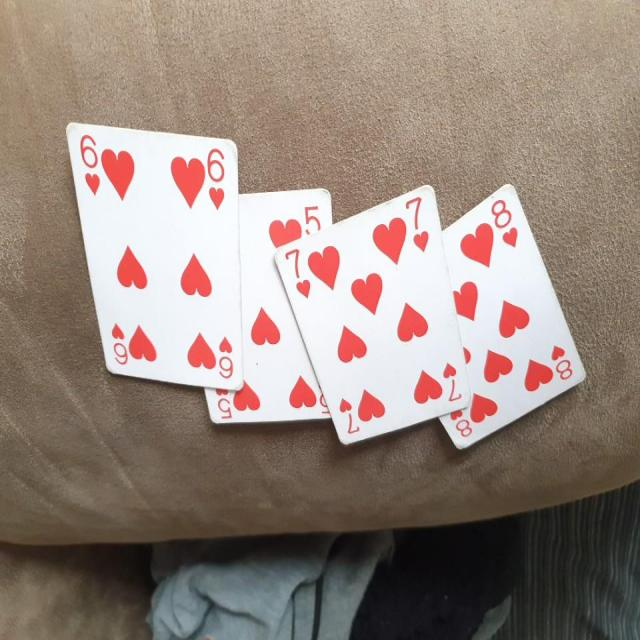5 Hearts: (202, 181, 338, 434)
6 Hearts: (58, 116, 243, 393)
7 Hearts: (276, 175, 483, 456)
8 Hearts: (436, 182, 592, 472)
